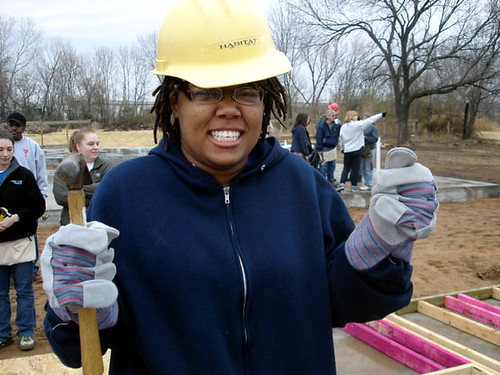person hardhat: (77, 1, 410, 375), (324, 101, 345, 186)
